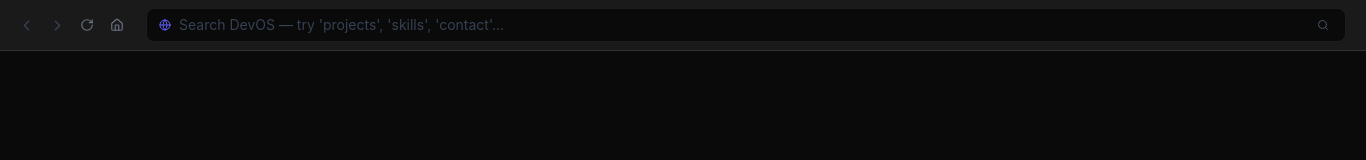
Browser Component — Internal-Only Navigation › typing in address bar should show relevant internal suggestions
The width and height of the screenshot is (1366, 160).
In the field with placeholder "Search DevOS — try 'projects', 'skills', 'contact'...": (742, 25) x1=179 y1=15 x2=1305 y2=35, type "proj"
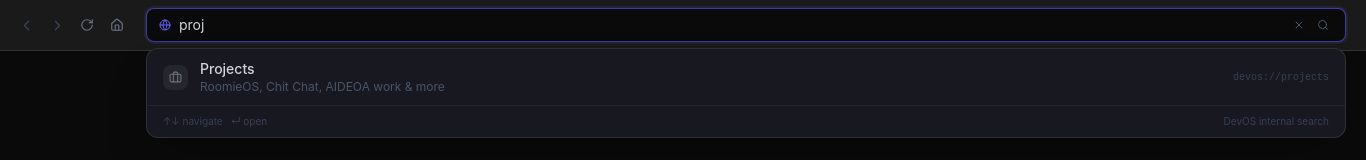
Expected: the text "Projects" next to "devos://projects" is shown, x1=200 y1=60 x2=255 y2=77
